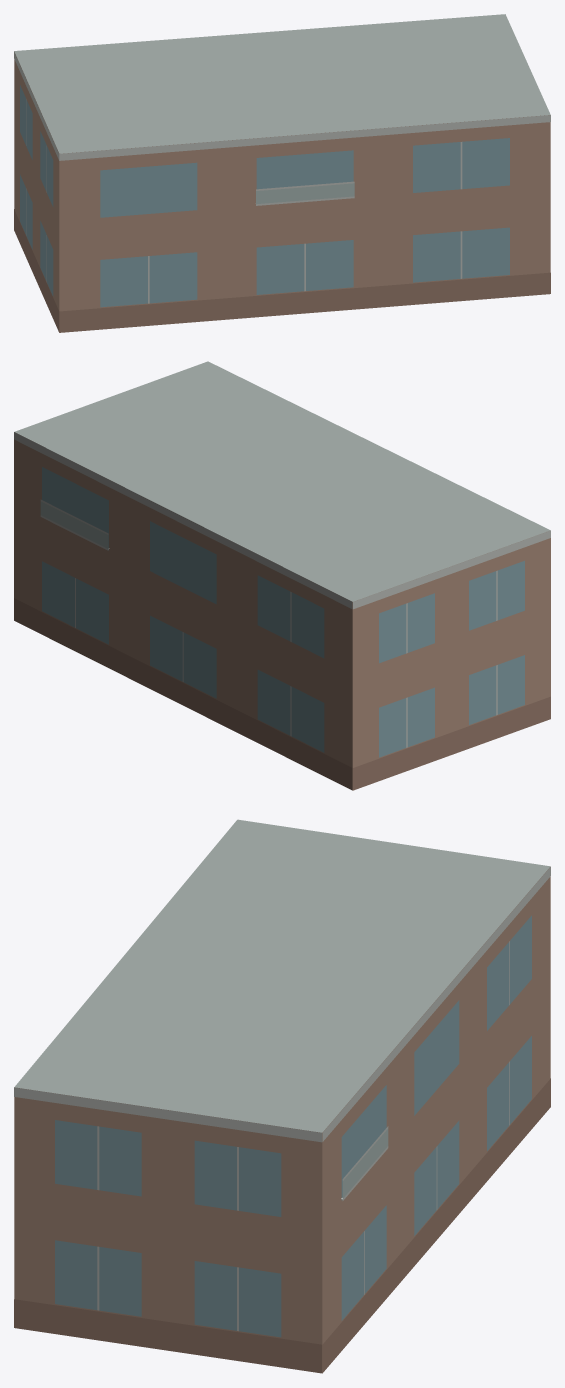
File: survey-upis-32851176.glb
3 views of the same model, one above another, from view 1: azimuth 30°, elevation 25°; view 2: azimuth 150°, elevation 25°; view 3: azimuth 270°, elevation 25° (orthographic). The views are drawn at different scales.
Visible parts, largest first — view 1: survey-upis-32851176.tmp; view 2: survey-upis-32851176.tmp; view 3: survey-upis-32851176.tmp.
Boxes of the visible parts, x1,y1,x2,y2 form: survey-upis-32851176.tmp: [14, 14, 550, 332]; survey-upis-32851176.tmp: [14, 361, 550, 790]; survey-upis-32851176.tmp: [14, 819, 550, 1373].
Size of the model in its own units: 17.04 by 6.1 by 12.34.
